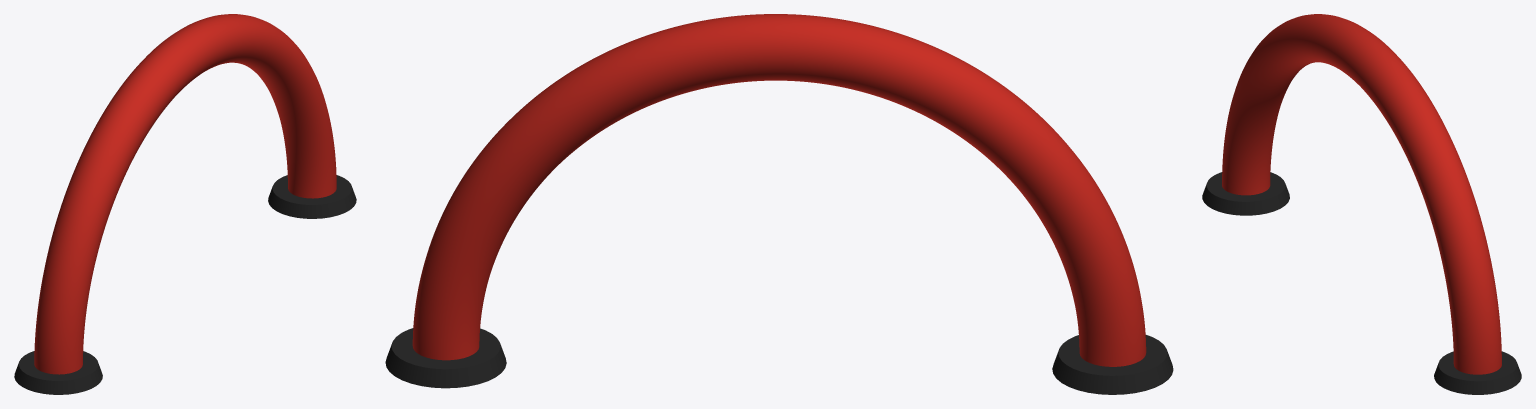
Rendered from sc-red-arc.glb.
3 renders of one model, left to right at view 1: azimuth 30°, elevation 25°; view 2: azimuth 150°, elevation 25°; view 3: azimuth 270°, elevation 25°, orthographic. The views are drawn at different scales.
Parts seen in each view (by area): view 1: sc_red_arc; view 2: sc_red_arc; view 3: sc_red_arc.
Boxes of the visible parts, bbox=[...] form: sc_red_arc: bbox=[14, 14, 356, 394]; sc_red_arc: bbox=[385, 14, 1173, 394]; sc_red_arc: bbox=[1202, 14, 1521, 394].
Bounding box in the file's own units: 1.1 × 0.6 × 0.6865.
